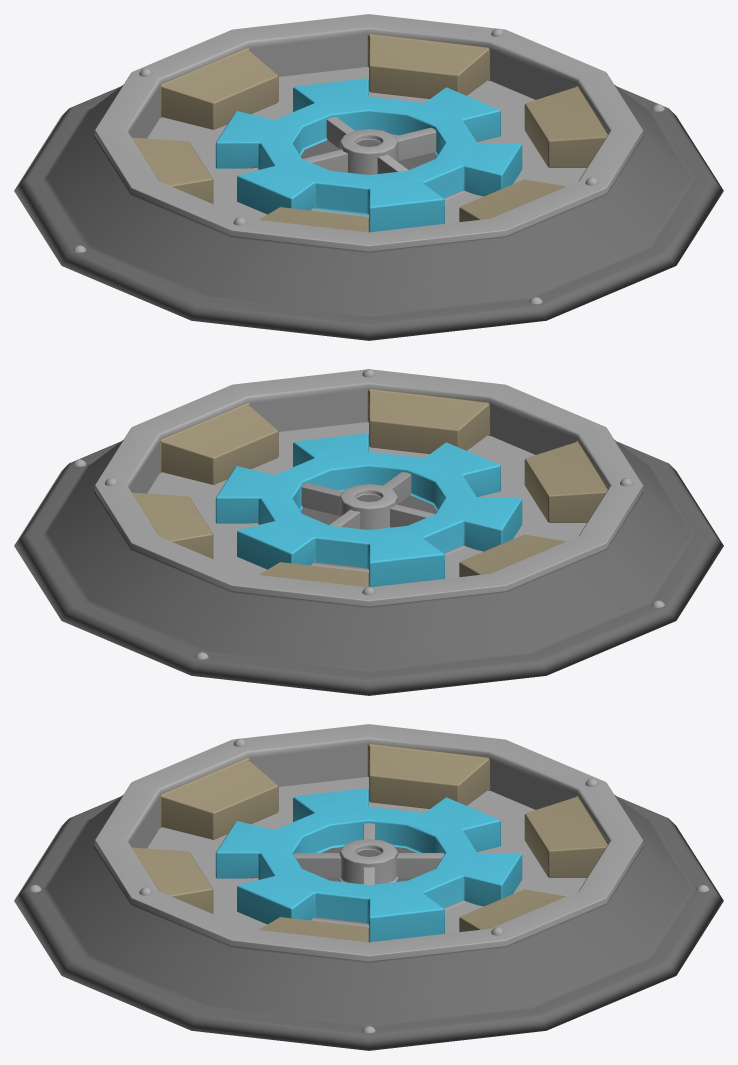
The model's file is GravLiftRoughPass.fbx.
3 views of the same model, one above another, from view 1: azimuth 30°, elevation 25°; view 2: azimuth 150°, elevation 25°; view 3: azimuth 270°, elevation 25° (orthographic).
Visible parts, largest first — view 1: polySurface10; view 2: polySurface10; view 3: polySurface10.
Boxes of the visible parts, left/top/right/bottom form: polySurface10: left=14, top=14, right=723, bottom=340; polySurface10: left=14, top=369, right=723, bottom=695; polySurface10: left=14, top=724, right=723, bottom=1050.
Bounding box in the file's own units: 420 × 44.02 × 420.
